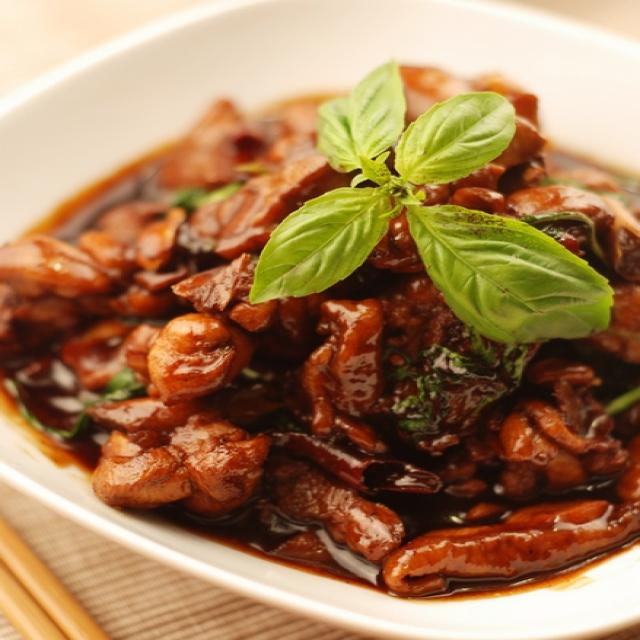鸡肉料理 含炸鸡: (22, 42, 625, 599)
